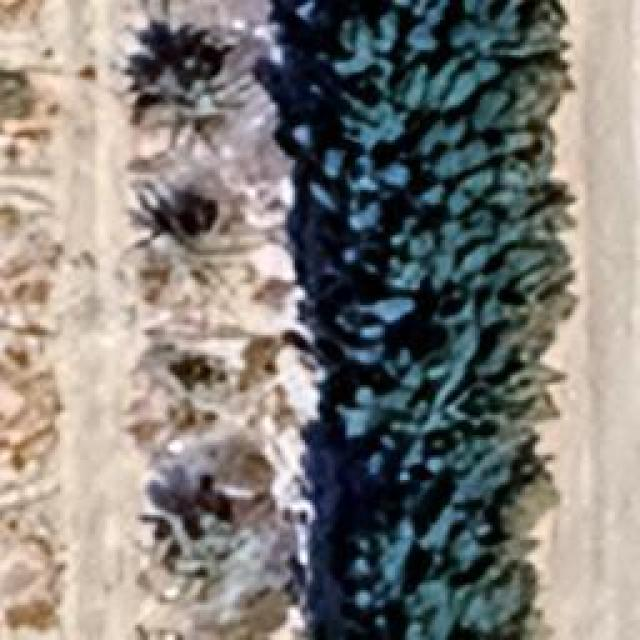PalmTree: (41, 97, 205, 558), (128, 32, 268, 132), (142, 190, 260, 292)
